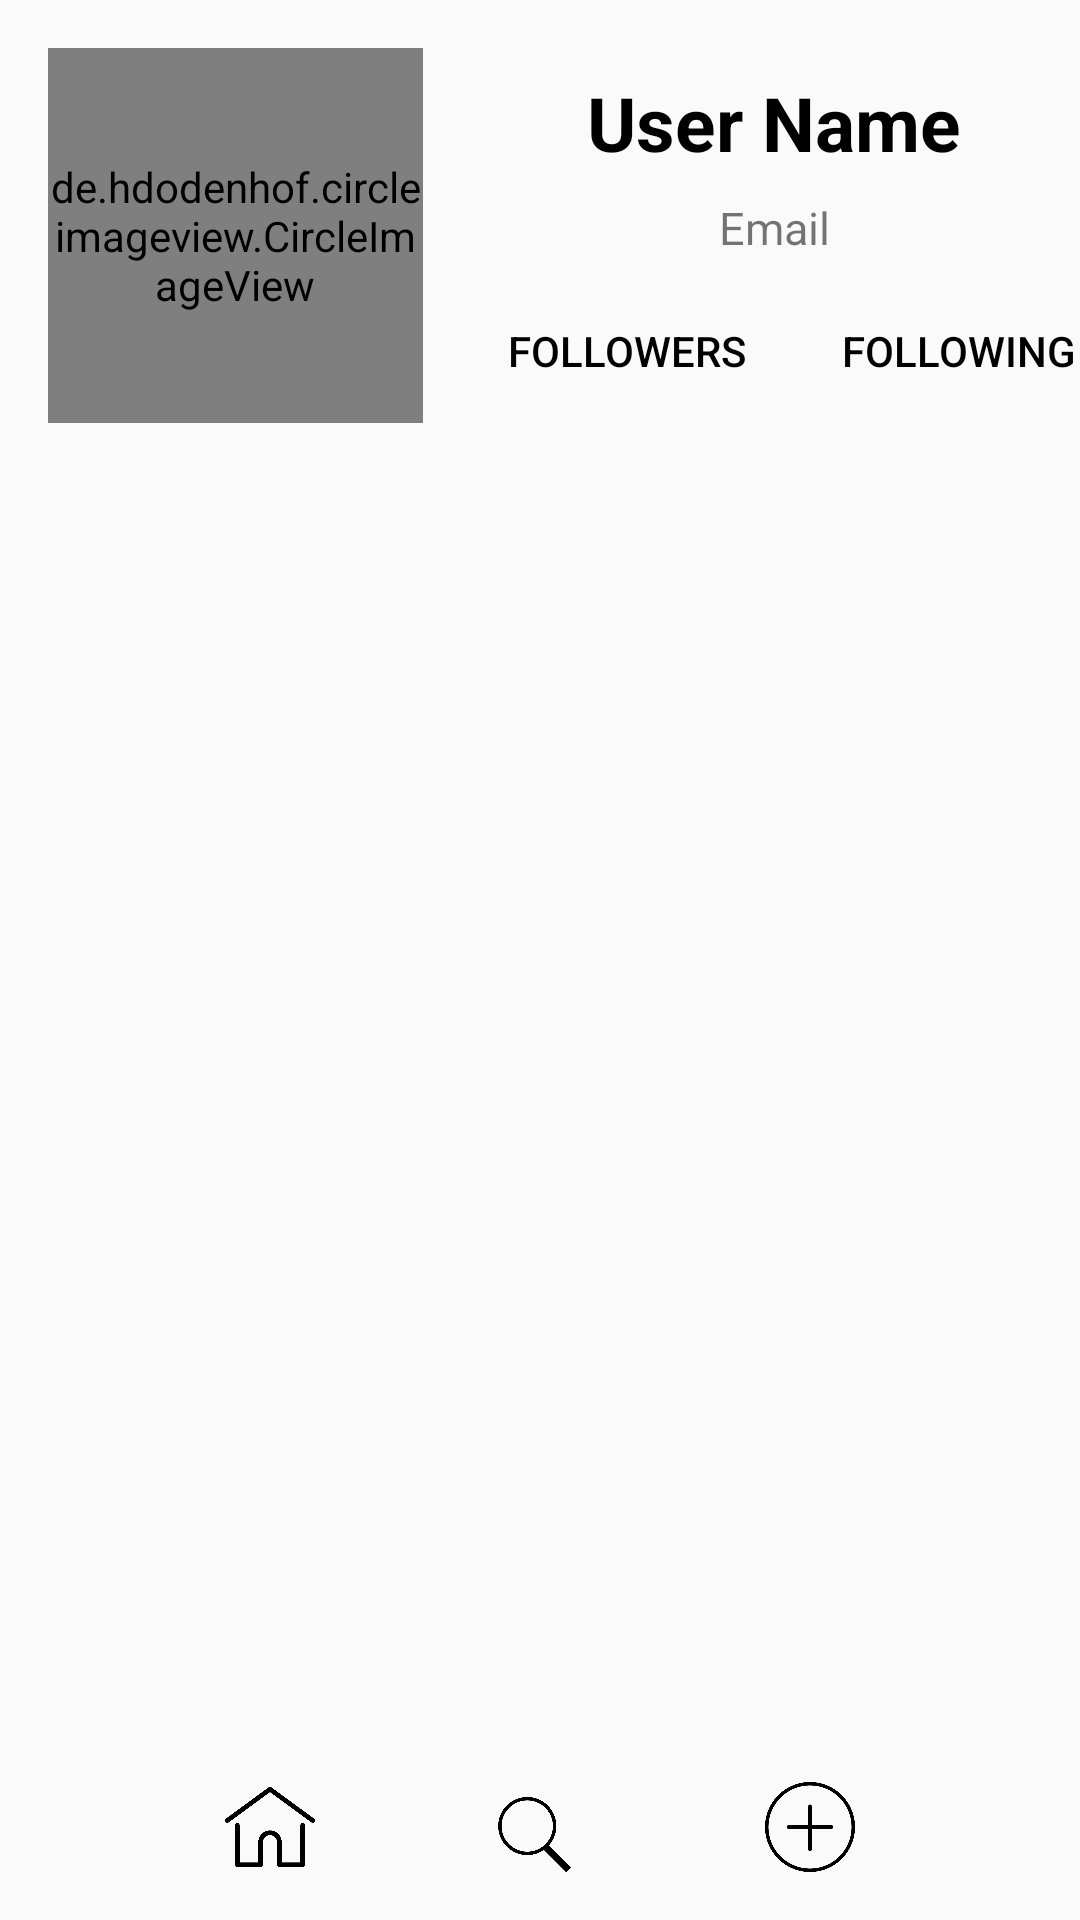

Screen size 1080px×1920px. Icon name, then its box in pixels as box=[x1, y1, x2, y2]:
plus: box=[765, 1782, 855, 1872]
search magnifier interface symbol: box=[498, 1797, 571, 1872]
